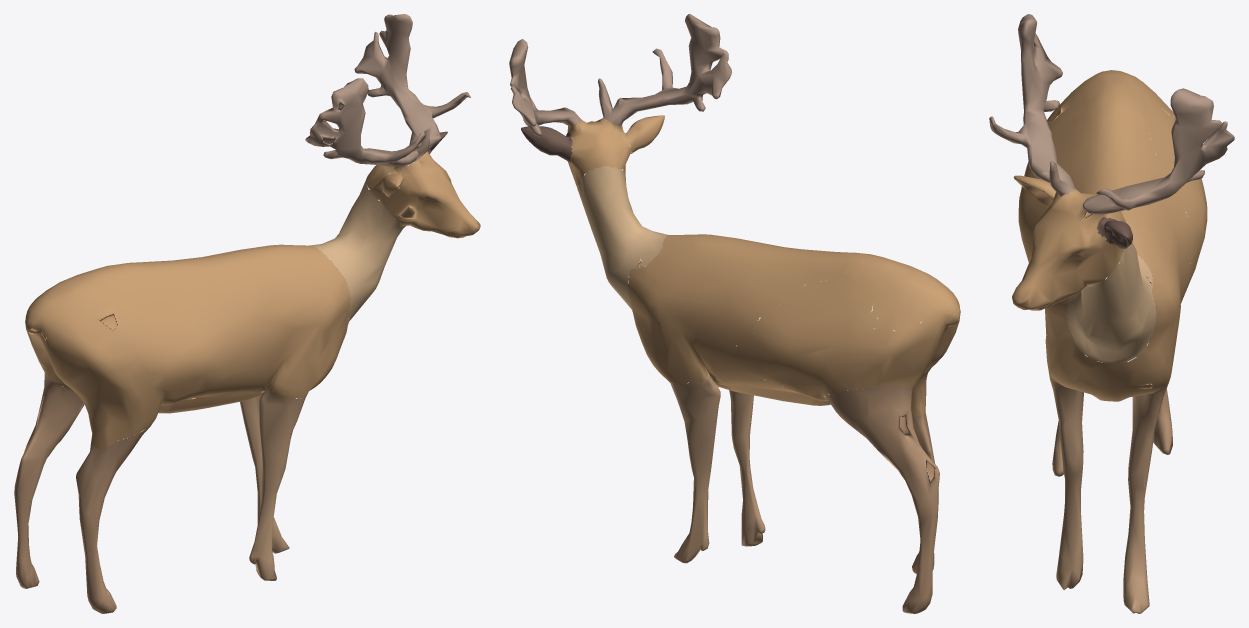
Rendered from deer.glb.
3 renders of one model, left to right at view 1: azimuth 30°, elevation 25°; view 2: azimuth 150°, elevation 25°; view 3: azimuth 270°, elevation 25°, orthographic. The views are drawn at different scales.
Visible parts, largest first — view 1: part10, part6, part4, part0, part8, part1, part11, part3, part5, part7; view 2: part10, part7, part0, part4, part11, part5, part6, part1, part8, part2, part9, part3; view 3: part10, part6, part4, part8, part11, part5, part1, part7, part0, part2, part9, part3.
Boxes of the visible parts, left/top/right/bottom form: part10: left=29, top=244, right=350, bottom=451; part6: left=366, top=141, right=480, bottom=238; part4: left=309, top=179, right=406, bottom=324; part0: left=14, top=373, right=84, bottom=588; part8: left=354, top=14, right=470, bottom=146; part1: left=249, top=390, right=306, bottom=580; part11: left=305, top=78, right=431, bottom=167; part3: left=76, top=427, right=149, bottom=613; part5: left=240, top=396, right=289, bottom=553; part7: left=25, top=307, right=68, bottom=387; part10: left=628, top=234, right=960, bottom=417; part7: left=733, top=276, right=960, bottom=398; part0: left=824, top=385, right=939, bottom=613; part4: left=577, top=166, right=667, bottom=312; part11: left=598, top=14, right=731, bottom=125; part5: left=670, top=373, right=720, bottom=563; part6: left=567, top=117, right=631, bottom=186; part1: left=729, top=390, right=765, bottom=546; part8: left=509, top=39, right=581, bottom=136; part2: left=521, top=126, right=572, bottom=162; part9: left=620, top=115, right=664, bottom=153; part3: left=911, top=413, right=934, bottom=573; part10: left=1018, top=70, right=1194, bottom=401; part6: left=1012, top=188, right=1126, bottom=310; part4: left=1066, top=242, right=1156, bottom=363; part8: left=1082, top=88, right=1234, bottom=214; part11: left=989, top=14, right=1075, bottom=196; part5: left=1123, top=382, right=1168, bottom=613; part1: left=1050, top=380, right=1083, bottom=589; part7: left=1144, top=100, right=1207, bottom=284; part0: left=1152, top=276, right=1172, bottom=454; part2: left=1097, top=217, right=1132, bottom=248; part9: left=1014, top=175, right=1059, bottom=207; part3: left=1052, top=338, right=1073, bottom=476.
Bounding box in the file's own units: 0.9231 × 0.9991 × 0.3625.
